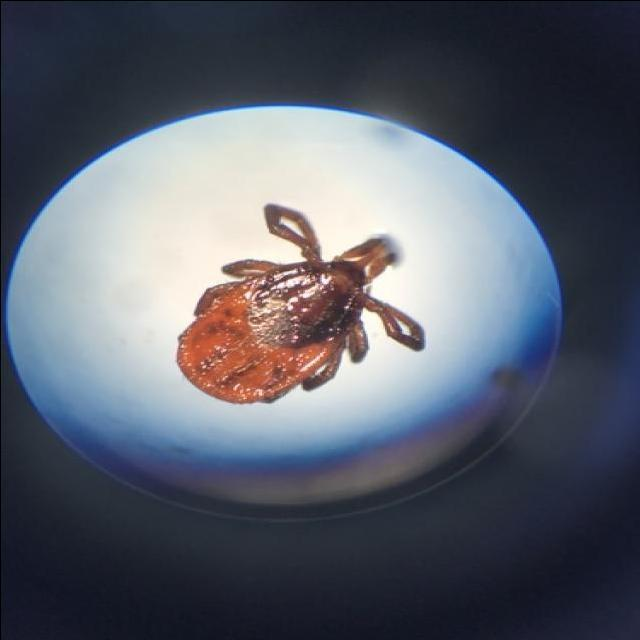Ixodes Ricinus-F: (174, 201, 425, 402)
